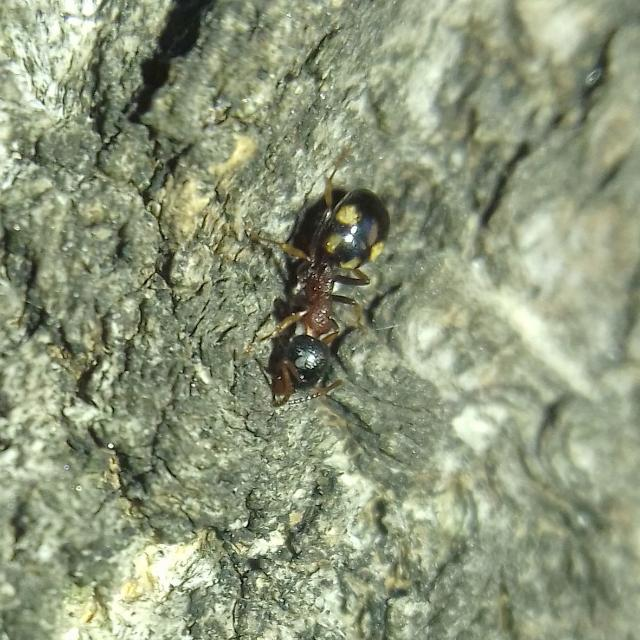Dolichoderus: (229, 159, 421, 425)
